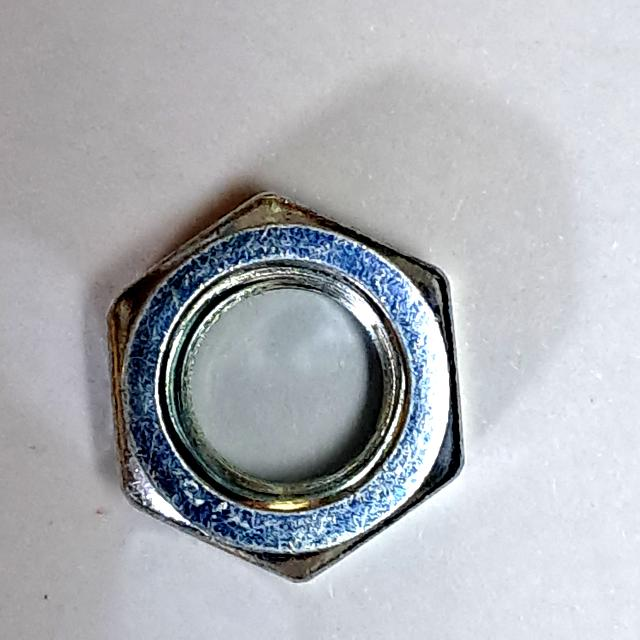Excellent: (87, 181, 480, 601)
